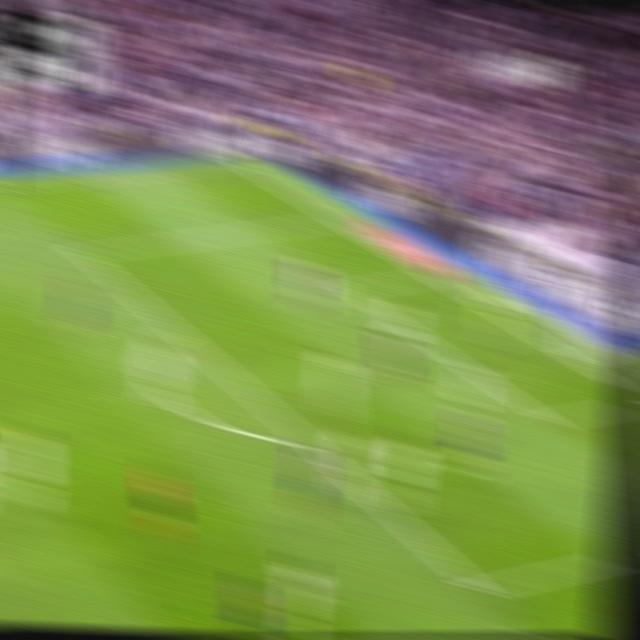bigarea_bottom_inner: (462, 568, 498, 609)
bigarea_top_inner: (70, 239, 98, 265)
bigarea_top_outter: (320, 208, 349, 230)
corner: (224, 153, 253, 172)
smallarea_top_inner: (337, 279, 362, 300)
top_arc_area_intersection: (162, 317, 191, 341)
